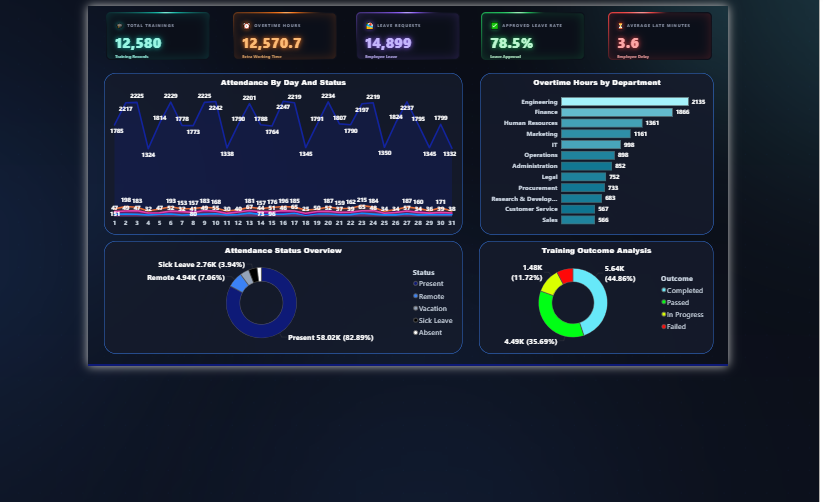

The page's visual inventory and layout, read from the dashboard file:
{"tool":"powerbi","page":{"name":"HR Operations","canvas":[1600,900],"ordinal":2},"visuals":[{"type":"htmlContent443BE3AD55E043BF878BED274D3A6855","fields":{"content":["attendance.Total Trainings KPI"]},"box":[40,10,270,130],"z":0},{"type":"htmlContent443BE3AD55E043BF878BED274D3A6855","fields":{"content":["attendance.Total Leave Requests KPI"]},"box":[665,10,270,130],"z":1000},{"type":"htmlContent443BE3AD55E043BF878BED274D3A6855","fields":{"content":["attendance.Approved Leave Rate KPI"]},"box":[978.6,10,270,130],"z":2000},{"type":"htmlContent443BE3AD55E043BF878BED274D3A6855","fields":{"content":["attendance.Total Overtime KPI"]},"box":[357.5,10,270,130],"z":3000},{"type":"htmlContent443BE3AD55E043BF878BED274D3A6855","fields":{"content":["attendance.Average Late Minutes KPI"]},"box":[1294.3,10,270,130],"z":4000},{"type":"donutChart","title":"Attendance Status Overview","fields":{"Category":["attendance.Status"],"Y":["CountNonNull(attendance.AttendanceID)"]},"box":[40,588,896,282],"z":5000},{"type":"lineChart","title":"Attendance By Day And Status","fields":{"Category":["attendance.AttendanceDate.Variation.Date Hierarchy.Year","attendance.AttendanceDate.Variation.Date Hierarchy.Quarter","attendance.AttendanceDate.Variation.Date Hierarchy.Month","attendance.AttendanceDate.Variation.Date Hierarchy.Day"],"Y":["CountNonNull(attendance.AttendanceID)"],"Series":["attendance.Status"]},"box":[40,168,896,404],"z":6000},{"type":"donutChart","title":"Training Outcome Analysis","fields":{"Category":["training.Outcome"],"Y":["CountNonNull(training.TrainingID)"]},"box":[978,588,586,282],"z":7000},{"type":"clusteredBarChart","title":"Overtime Hours by Department","fields":{"Category":["departments.DepartmentName"],"Y":["Sum(attendance.OvertimeHours)"]},"box":[980,168,584,404],"z":8000}]}

Visuals, with their boxes on the page's 1600x900 design canvas (x1, y1, x2, y2). These are canvas units, not pixel positions in the 823x502 screenshot, which may show the page scaled, cropped or inside an application window:
htmlContent443BE3AD55E043BF878BED274D3A6855 - attendance.Total Trainings KPI: x1=40 y1=10 x2=310 y2=140
htmlContent443BE3AD55E043BF878BED274D3A6855 - attendance.Total Leave Requests KPI: x1=665 y1=10 x2=935 y2=140
htmlContent443BE3AD55E043BF878BED274D3A6855 - attendance.Approved Leave Rate KPI: x1=979 y1=10 x2=1249 y2=140
htmlContent443BE3AD55E043BF878BED274D3A6855 - attendance.Total Overtime KPI: x1=358 y1=10 x2=628 y2=140
htmlContent443BE3AD55E043BF878BED274D3A6855 - attendance.Average Late Minutes KPI: x1=1294 y1=10 x2=1564 y2=140
"Attendance Status Overview" donutChart: x1=40 y1=588 x2=936 y2=870
"Attendance By Day And Status" lineChart: x1=40 y1=168 x2=936 y2=572
"Training Outcome Analysis" donutChart: x1=978 y1=588 x2=1564 y2=870
"Overtime Hours by Department" clusteredBarChart: x1=980 y1=168 x2=1564 y2=572
